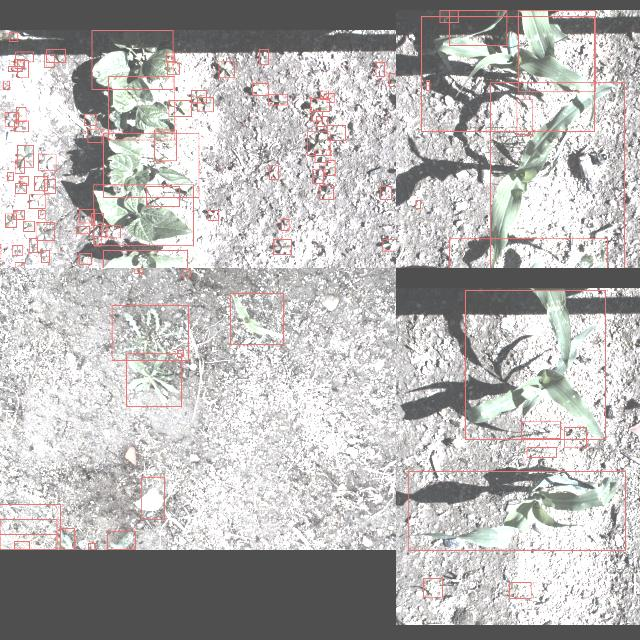crop: (490, 82, 624, 268), (464, 289, 604, 439), (421, 15, 594, 130), (408, 472, 624, 550), (102, 132, 198, 198), (518, 10, 594, 92), (93, 185, 193, 245), (91, 30, 172, 90), (449, 239, 607, 268), (108, 76, 174, 140), (229, 294, 283, 344), (448, 10, 506, 44), (102, 250, 187, 268), (439, 10, 457, 22)
weed: (112, 306, 188, 360), (126, 354, 180, 406), (0, 505, 60, 535), (0, 519, 56, 549), (140, 477, 163, 519), (520, 420, 560, 438), (154, 130, 176, 160), (146, 186, 178, 206), (516, 98, 532, 134), (107, 530, 135, 550), (307, 131, 329, 155), (564, 427, 586, 447), (422, 578, 442, 598), (16, 145, 34, 167), (168, 100, 190, 116), (508, 582, 530, 598), (35, 222, 53, 240), (60, 528, 74, 550), (526, 447, 556, 457), (38, 154, 56, 170), (218, 61, 234, 78), (197, 96, 213, 112), (327, 126, 345, 140), (273, 240, 291, 254), (46, 48, 64, 62), (78, 209, 94, 223), (310, 98, 328, 110), (16, 60, 28, 78), (268, 94, 286, 105), (319, 185, 333, 199), (87, 128, 101, 142), (30, 194, 44, 208), (314, 150, 330, 162), (251, 83, 267, 95), (190, 90, 206, 102), (5, 112, 18, 126), (15, 51, 33, 61), (105, 226, 119, 238), (4, 213, 16, 227), (34, 176, 46, 190), (14, 120, 28, 132), (324, 160, 334, 176), (258, 48, 268, 64), (44, 178, 54, 194), (15, 106, 25, 122), (382, 239, 396, 250), (167, 62, 179, 74), (91, 213, 103, 225), (83, 113, 95, 125), (22, 220, 34, 232), (374, 62, 384, 76), (312, 169, 322, 183), (268, 165, 278, 179), (43, 53, 53, 67), (14, 159, 24, 173), (79, 253, 91, 264), (380, 187, 390, 200), (310, 111, 322, 121), (12, 210, 24, 220), (14, 183, 26, 193), (28, 238, 36, 252), (14, 542, 28, 550), (388, 72, 396, 85), (75, 226, 88, 234), (316, 116, 326, 126), (207, 210, 217, 220), (12, 245, 22, 255), (14, 58, 24, 68), (41, 250, 49, 262), (280, 219, 288, 231), (100, 226, 108, 237), (8, 66, 22, 72), (319, 90, 327, 100), (166, 52, 174, 62), (8, 32, 18, 40), (326, 92, 334, 101), (20, 177, 28, 186), (94, 236, 100, 246), (2, 80, 8, 90), (37, 210, 44, 218), (14, 262, 23, 268), (7, 172, 13, 180), (414, 200, 420, 208), (182, 270, 190, 276), (134, 268, 142, 274), (87, 544, 95, 550), (177, 350, 183, 356), (426, 80, 428, 90)
